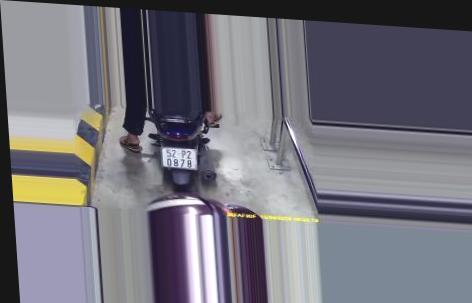License_Plate: (160, 145, 201, 174)
